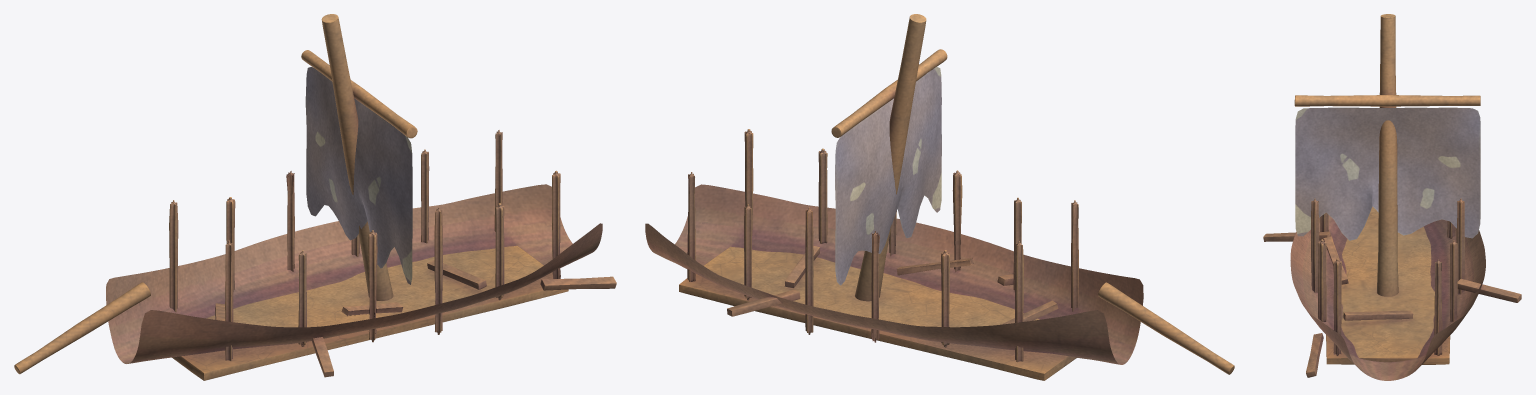
File: WM_Shipwreck.fbx
3 renders of one model, left to right at view 1: azimuth 30°, elevation 25°; view 2: azimuth 150°, elevation 25°; view 3: azimuth 270°, elevation 25°, orthographic. The views are drawn at different scales.
Parts seen in each view (by area): view 1: WM_Shipwreck_LOD0; view 2: WM_Shipwreck_LOD0; view 3: WM_Shipwreck_LOD0.
Boxes of the visible parts, x1,y1,x2,y2 form: WM_Shipwreck_LOD0: (14,14,616,380); WM_Shipwreck_LOD0: (645,14,1234,380); WM_Shipwreck_LOD0: (1263,14,1521,380).
Size of what is drawn, in the model's own units: 7.41 by 3.81 by 3.35.
